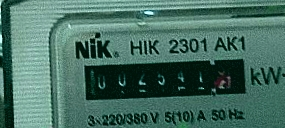0: (93, 69, 107, 90), (114, 66, 127, 88)
1: (193, 64, 205, 85)
2: (134, 66, 147, 87)
4: (174, 64, 187, 85)
5: (153, 65, 166, 87)
6: (216, 76, 227, 91)
screen: (73, 49, 257, 109)
